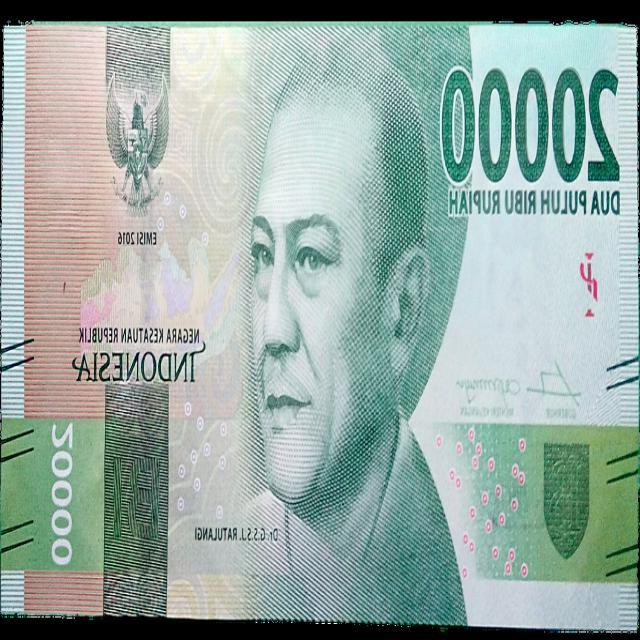dua puluh ribu rupiah: (0, 30, 636, 623), (247, 56, 420, 504), (440, 64, 622, 186)
